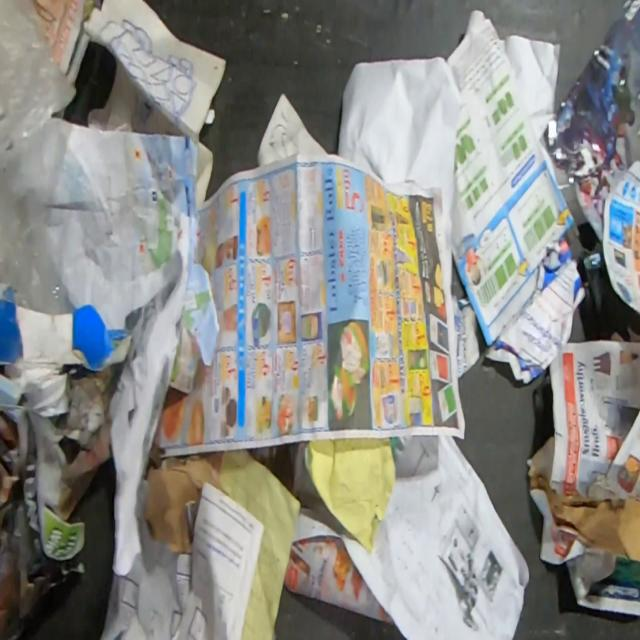cardboard: (0, 299, 132, 371)
soft_plastic: (0, 0, 76, 315)
